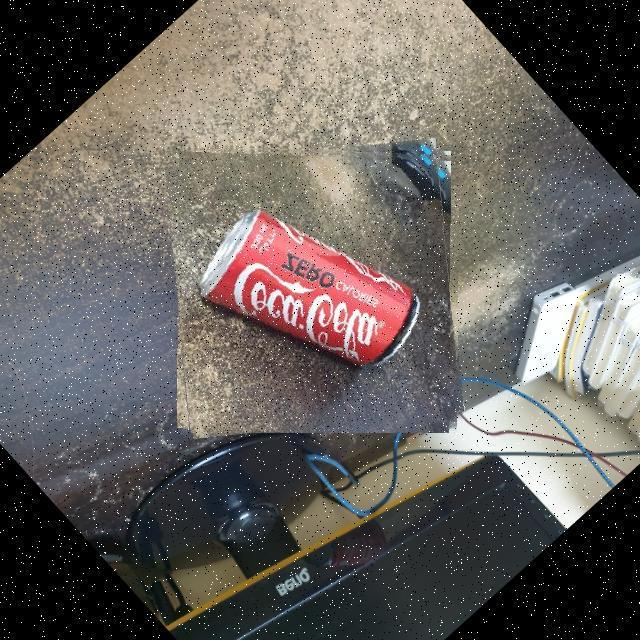recyclable: (171, 145, 459, 433)
